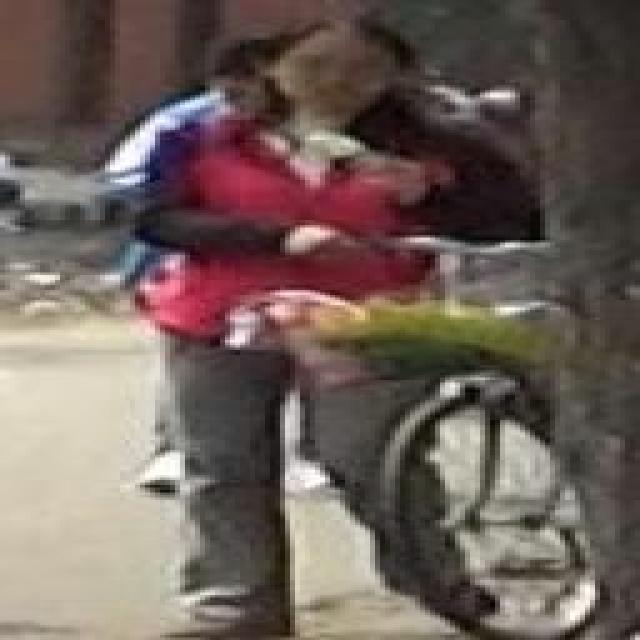adult: (110, 16, 539, 630)
